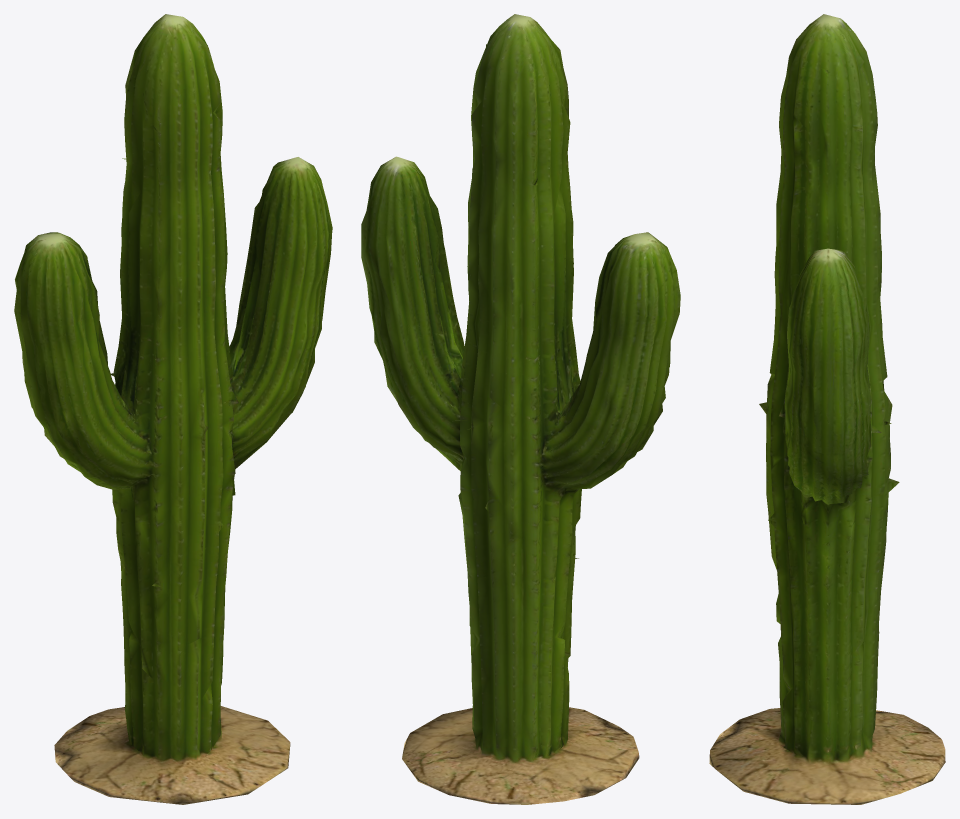
Rendered from desert_cactus_without_1120185105_texture.fbx.
3 renders of one model, left to right at view 1: azimuth 30°, elevation 25°; view 2: azimuth 150°, elevation 25°; view 3: azimuth 270°, elevation 25°, orthographic.
Visible parts, largest first — view 1: Mesh1.0; view 2: Mesh1.0; view 3: Mesh1.0.
Part boxes in pixels (x1=…): Mesh1.0: x1=14, y1=14, x2=332, y2=804; Mesh1.0: x1=361, y1=14, x2=680, y2=804; Mesh1.0: x1=709, y1=14, x2=945, y2=804.
Size of the model in its own units: 82.16 by 189 by 54.68.
1 material, 1 textured.
